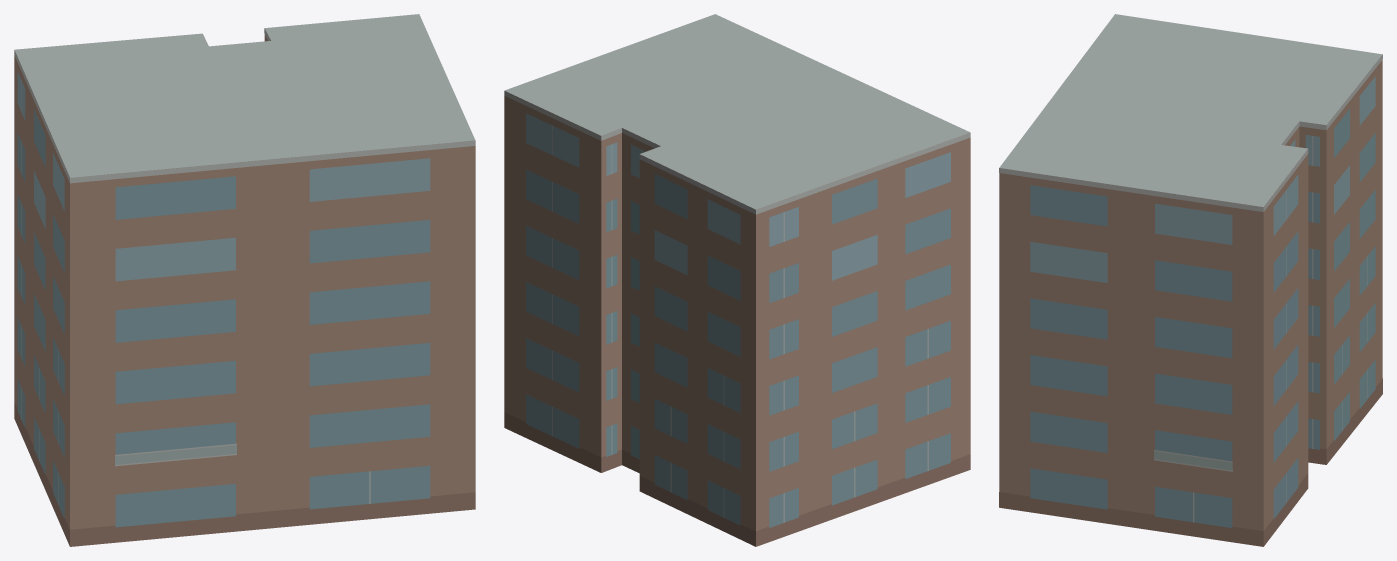
The model's file is survey-upis-32844626.glb.
3 renders of one model, left to right at view 1: azimuth 30°, elevation 25°; view 2: azimuth 150°, elevation 25°; view 3: azimuth 270°, elevation 25°, orthographic. The views are drawn at different scales.
Parts seen in each view (by area): view 1: survey-upis-32844626.tmp; view 2: survey-upis-32844626.tmp; view 3: survey-upis-32844626.tmp.
Part boxes in pixels (left/top/right/bottom): survey-upis-32844626.tmp: left=14, top=14, right=475, bottom=546; survey-upis-32844626.tmp: left=504, top=14, right=970, bottom=546; survey-upis-32844626.tmp: left=999, top=14, right=1382, bottom=546.
Size of the model in its own units: 20.12 by 16.5 by 16.9.
